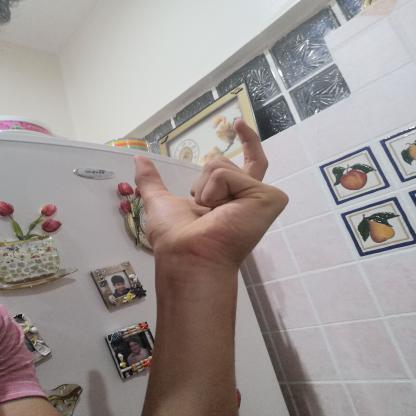NOON: (116, 110, 308, 286)
